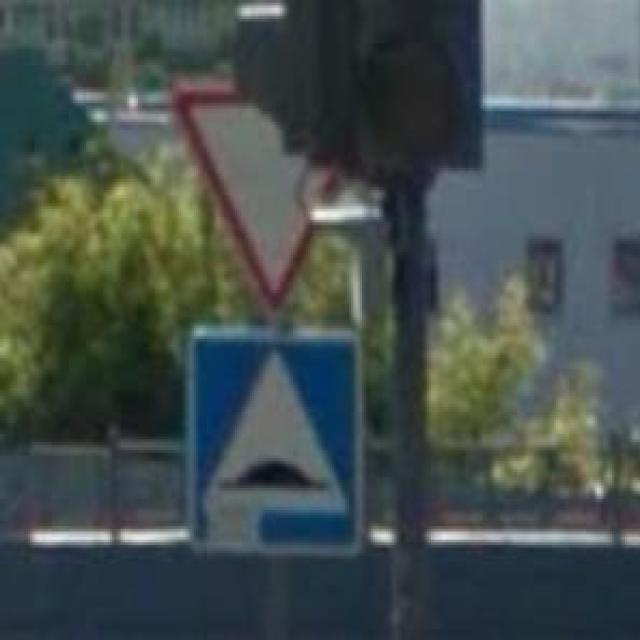give_way: (168, 81, 351, 312)
road_rough: (181, 323, 368, 564)
